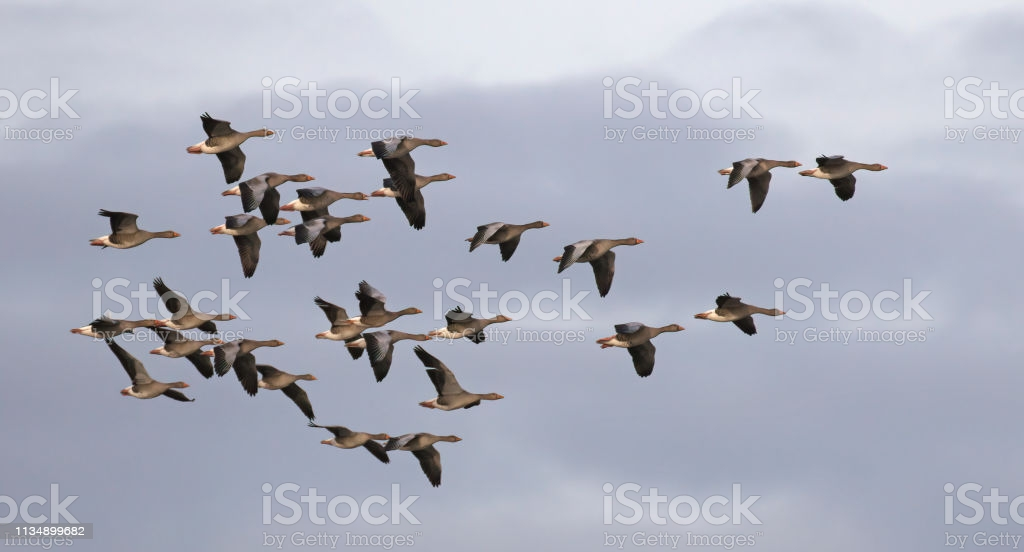goose: (408, 344, 513, 417), (103, 339, 196, 420), (182, 109, 278, 183), (591, 315, 687, 382), (549, 234, 647, 299), (371, 167, 460, 235), (715, 152, 803, 216), (203, 212, 283, 281), (796, 152, 892, 206), (304, 415, 394, 471), (349, 323, 442, 377), (387, 427, 466, 489), (303, 295, 369, 367), (690, 292, 790, 339), (87, 204, 181, 254), (158, 278, 242, 333), (223, 169, 317, 217), (215, 333, 288, 393), (247, 362, 321, 421), (464, 218, 553, 265), (149, 320, 221, 376), (430, 306, 518, 350), (281, 209, 366, 254), (362, 133, 452, 171), (354, 284, 423, 331), (280, 184, 370, 220), (71, 309, 168, 341)
